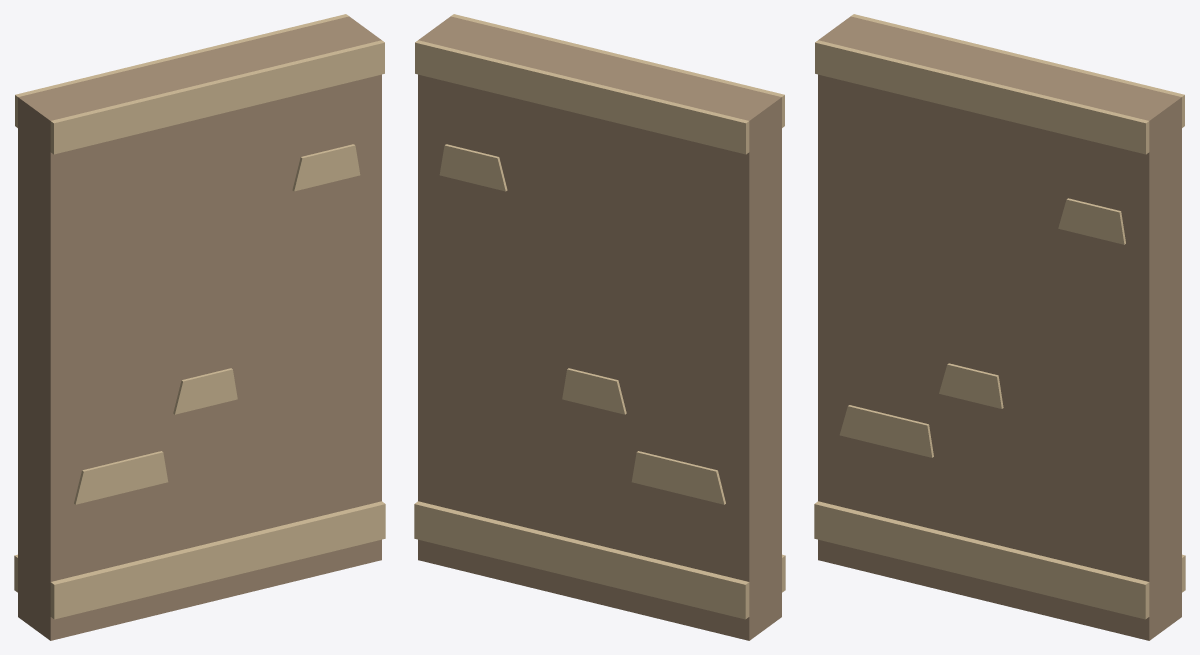
File: curtain_wall.glb
3 renders of one model, left to right at view 1: azimuth 30°, elevation 25°; view 2: azimuth 150°, elevation 25°; view 3: azimuth 330°, elevation 25°, orthographic.
Visible parts, largest first — view 1: Curtain wall; view 2: Curtain wall; view 3: Curtain wall.
Part boxes in pixels (bbox=[...]): Curtain wall: bbox=[14, 14, 385, 640]; Curtain wall: bbox=[414, 14, 785, 640]; Curtain wall: bbox=[814, 14, 1185, 640].
Size of the model in its own units: 1 by 1.5 by 0.21.
